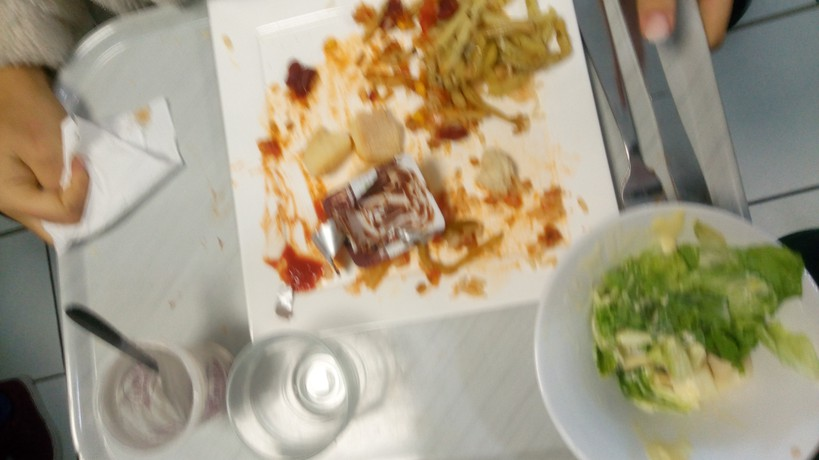cup: (219, 336, 386, 447)
cutlery: (572, 1, 728, 213), (55, 298, 178, 399)
orga: (596, 238, 790, 405), (410, 1, 542, 137)
trash: (78, 117, 184, 236), (325, 169, 441, 264)
